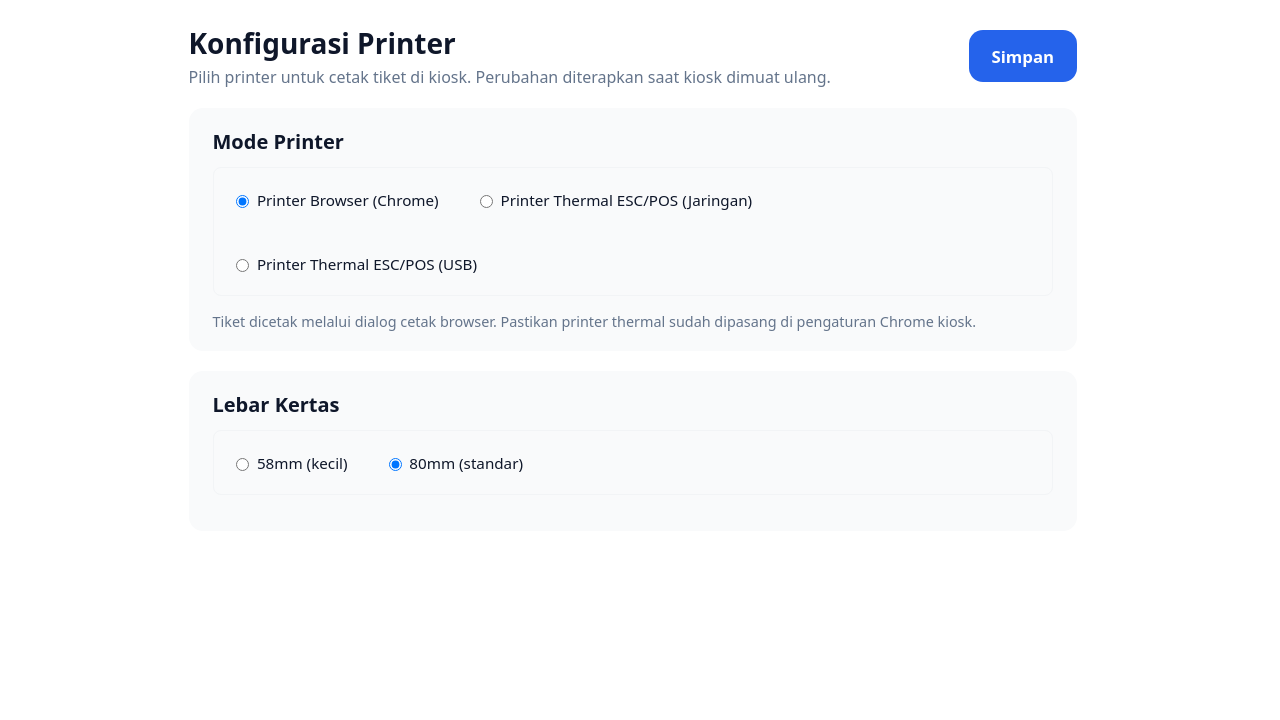
Scenario: PrinterConfigPage › a save failure is announced via the error toast with the Gagal menyimpan prefix
Expected: the radio button with test id "printer-mode--chrome" is shown, [236,195,249,208]
Click the button with test id "printer-save" at x=1023, y=56, box [969,30,1076,82]
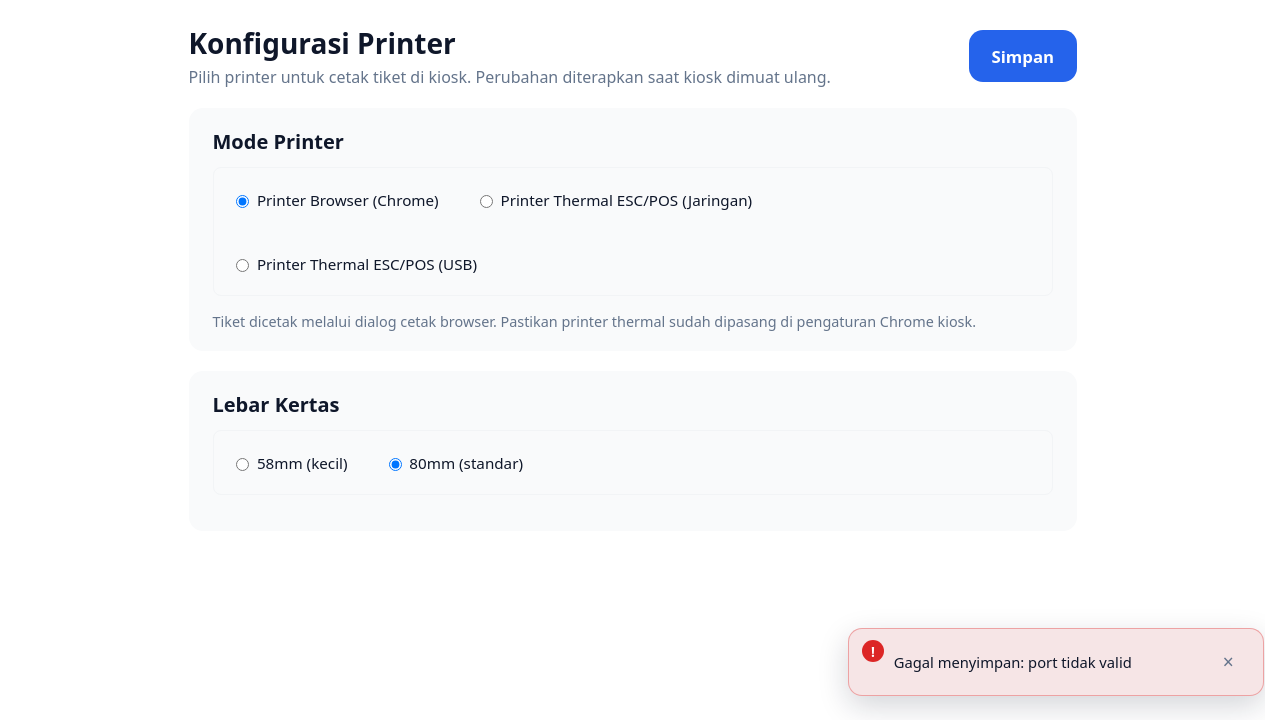
Expected: the text "Gagal menyimpan: port tidak valid" is shown, [894,652,1132,672]
